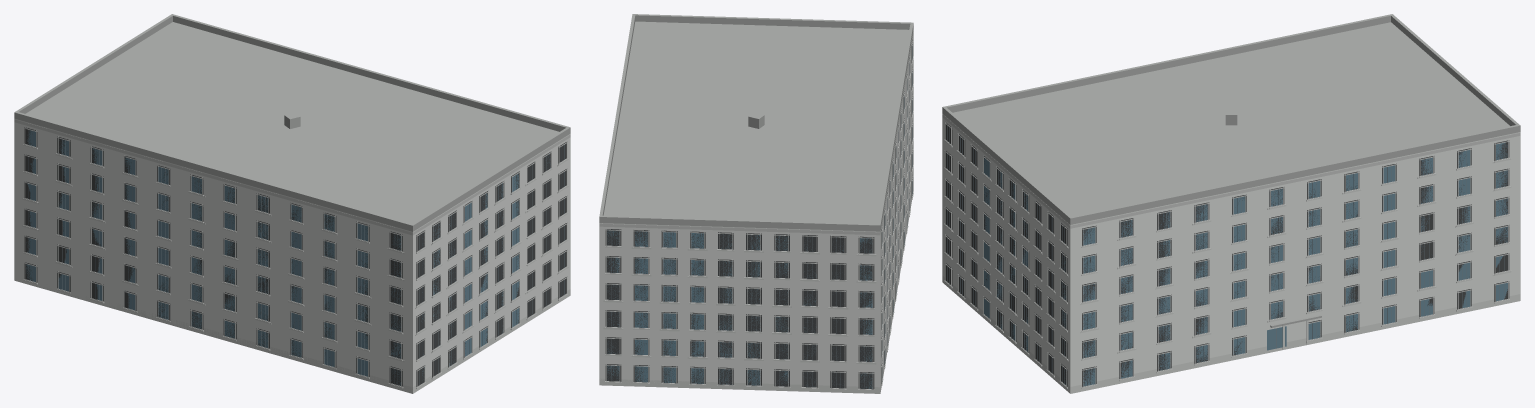
Rendered from cop_hotel_contemporaneo_04__way_357286152.fbx.
The picture shows the model from 3 angles, left to right: view 1: azimuth 30°, elevation 25°; view 2: azimuth 150°, elevation 25°; view 3: azimuth 270°, elevation 25°; orthographic projection. The views are drawn at different scales.
Visible parts, largest first — view 1: cop_hotel_contemporaneo_04__way_357286152_wall, cop_hotel_contemporaneo_04__way_357286152_roof, cop_hotel_contemporaneo_04__way_357286152_shadow, cop_hotel_contemporaneo_04__way_357286152_glass, cop_hotel_contemporaneo_04__way_357286152_trim, cop_hotel_contemporaneo_04__way_357286152_stone, cop_hotel_contemporaneo_04__way_357286152_metal; view 2: cop_hotel_contemporaneo_04__way_357286152_roof, cop_hotel_contemporaneo_04__way_357286152_wall, cop_hotel_contemporaneo_04__way_357286152_shadow, cop_hotel_contemporaneo_04__way_357286152_trim, cop_hotel_contemporaneo_04__way_357286152_glass, cop_hotel_contemporaneo_04__way_357286152_stone, cop_hotel_contemporaneo_04__way_357286152_metal; view 3: cop_hotel_contemporaneo_04__way_357286152_roof, cop_hotel_contemporaneo_04__way_357286152_wall, cop_hotel_contemporaneo_04__way_357286152_shadow, cop_hotel_contemporaneo_04__way_357286152_glass, cop_hotel_contemporaneo_04__way_357286152_trim, cop_hotel_contemporaneo_04__way_357286152_stone, cop_hotel_contemporaneo_04__way_357286152_metal.
Boxes of the visible parts, x1,y1,x2,y2 form: cop_hotel_contemporaneo_04__way_357286152_wall: (14, 118, 570, 393); cop_hotel_contemporaneo_04__way_357286152_roof: (14, 14, 570, 231); cop_hotel_contemporaneo_04__way_357286152_shadow: (24, 127, 566, 387); cop_hotel_contemporaneo_04__way_357286152_glass: (26, 130, 550, 385); cop_hotel_contemporaneo_04__way_357286152_trim: (14, 119, 570, 387); cop_hotel_contemporaneo_04__way_357286152_stone: (22, 144, 570, 393); cop_hotel_contemporaneo_04__way_357286152_metal: (28, 130, 564, 384); cop_hotel_contemporaneo_04__way_357286152_roof: (599, 14, 913, 231); cop_hotel_contemporaneo_04__way_357286152_wall: (599, 33, 913, 393); cop_hotel_contemporaneo_04__way_357286152_shadow: (605, 40, 912, 389); cop_hotel_contemporaneo_04__way_357286152_trim: (599, 30, 913, 389); cop_hotel_contemporaneo_04__way_357286152_glass: (607, 230, 872, 388); cop_hotel_contemporaneo_04__way_357286152_stone: (599, 56, 913, 393); cop_hotel_contemporaneo_04__way_357286152_metal: (611, 44, 912, 388); cop_hotel_contemporaneo_04__way_357286152_roof: (942, 14, 1520, 327); cop_hotel_contemporaneo_04__way_357286152_wall: (942, 113, 1520, 393); cop_hotel_contemporaneo_04__way_357286152_shadow: (945, 122, 1509, 386); cop_hotel_contemporaneo_04__way_357286152_glass: (984, 142, 1507, 386); cop_hotel_contemporaneo_04__way_357286152_trim: (942, 114, 1520, 387); cop_hotel_contemporaneo_04__way_357286152_stone: (942, 139, 1520, 393); cop_hotel_contemporaneo_04__way_357286152_metal: (947, 126, 1504, 385).
Bounding box in the file's own units: 4672 × 1913 × 5580.
